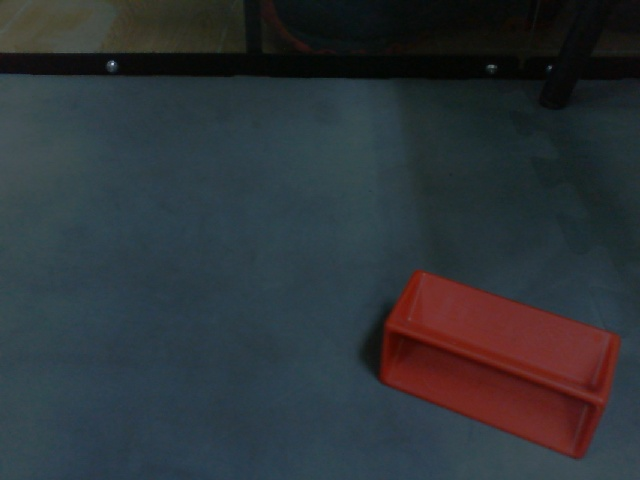RedSample: (376, 267, 624, 462)
